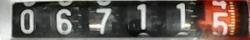digits: (55, 8, 73, 34), (95, 7, 111, 34), (211, 12, 228, 36), (20, 8, 34, 34), (136, 3, 149, 31), (175, 2, 187, 30)
